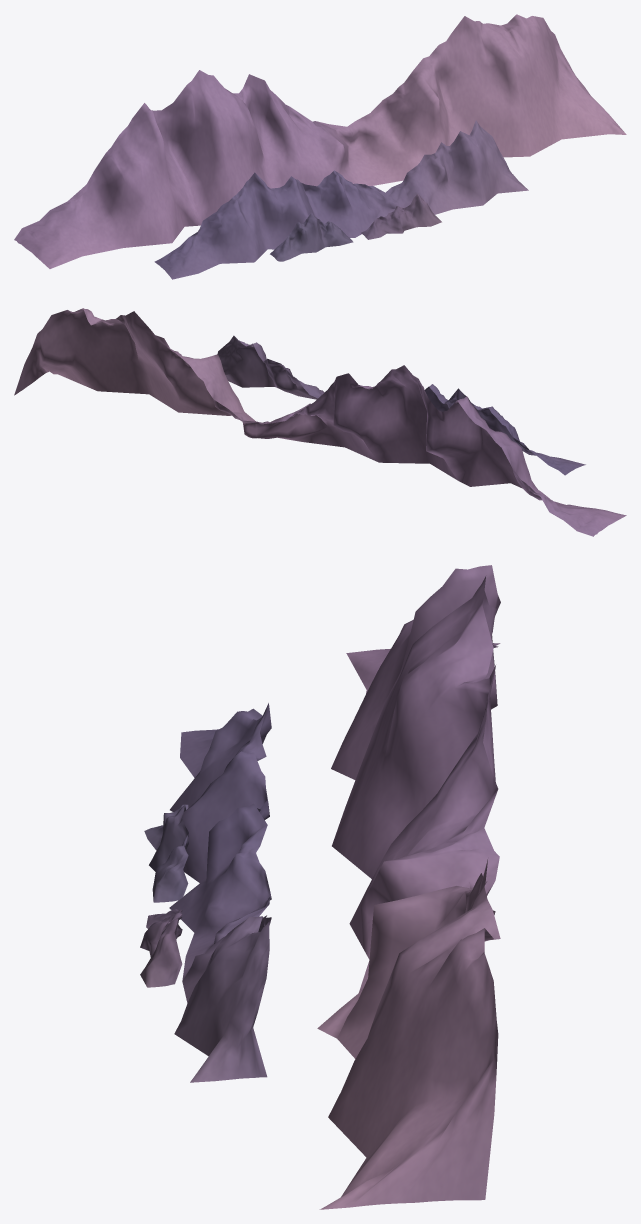
File: Grand_Dojo_Valley_Ridges.glb
3 renders of one model, top to bottom at view 1: azimuth 30°, elevation 25°; view 2: azimuth 150°, elevation 25°; view 3: azimuth 270°, elevation 25°, orthographic. The views are drawn at different scales.
Visible parts, largest first — view 1: Grand Dojo Valley Ridges; view 2: Grand Dojo Valley Ridges; view 3: Grand Dojo Valley Ridges.
Boxes of the visible parts, <box> form: Grand Dojo Valley Ridges: <box>14,14,626,279</box>; Grand Dojo Valley Ridges: <box>14,308,626,536</box>; Grand Dojo Valley Ridges: <box>140,565,500,1209</box>.
Size of the model in its own units: 1807 by 388 by 493.
Materials: 1 (1 with a texture image).
